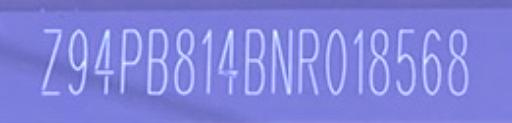letter: (168, 27, 202, 98), (444, 27, 476, 96), (118, 23, 146, 94), (266, 27, 294, 96), (62, 27, 90, 96), (392, 29, 420, 96), (36, 25, 62, 96), (322, 27, 348, 98), (368, 27, 392, 96), (218, 25, 240, 96), (144, 25, 166, 96), (296, 27, 318, 96), (348, 27, 368, 96), (244, 27, 264, 94), (92, 29, 112, 96), (422, 27, 440, 98), (202, 27, 216, 96)
